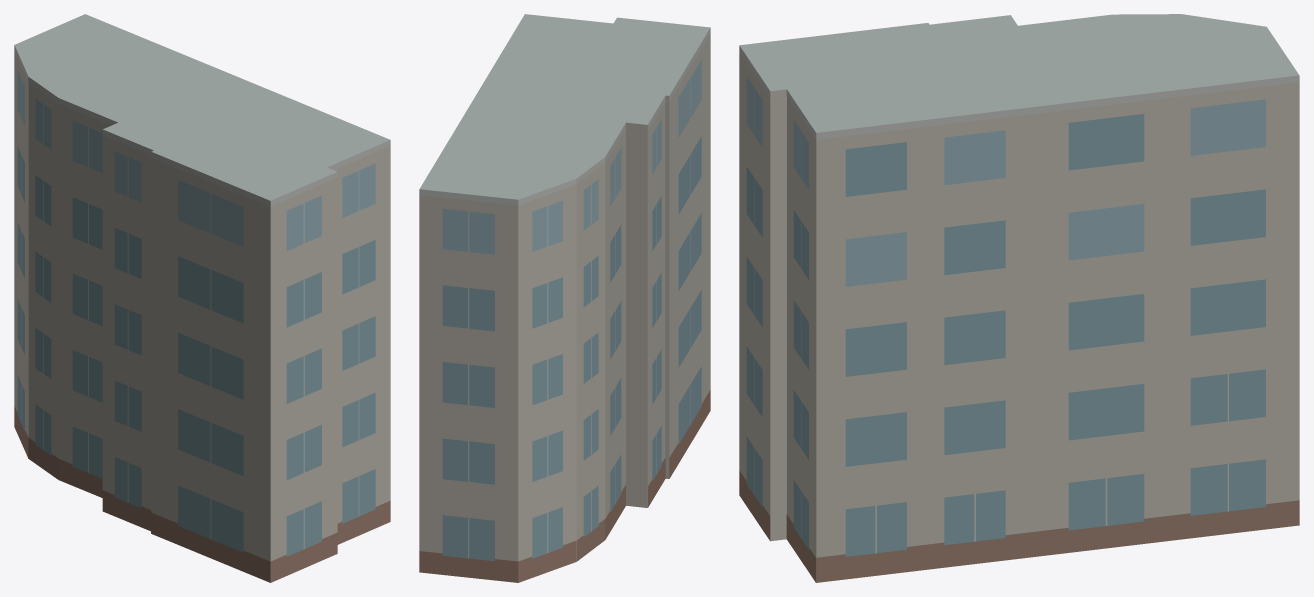
Rendered from survey-upis-32621707.glb.
The picture shows the model from 3 angles, left to right: view 1: azimuth 30°, elevation 25°; view 2: azimuth 150°, elevation 25°; view 3: azimuth 270°, elevation 25°; orthographic projection. The views are drawn at different scales.
Parts seen in each view (by area): view 1: survey-upis-32621707.tmp; view 2: survey-upis-32621707.tmp; view 3: survey-upis-32621707.tmp.
Part boxes in pixels (<box>): survey-upis-32621707.tmp: <box>14,14,390,582</box>; survey-upis-32621707.tmp: <box>419,14,710,582</box>; survey-upis-32621707.tmp: <box>739,14,1299,582</box>.
Size of the model in its own units: 9.05 by 15.95 by 18.01.
